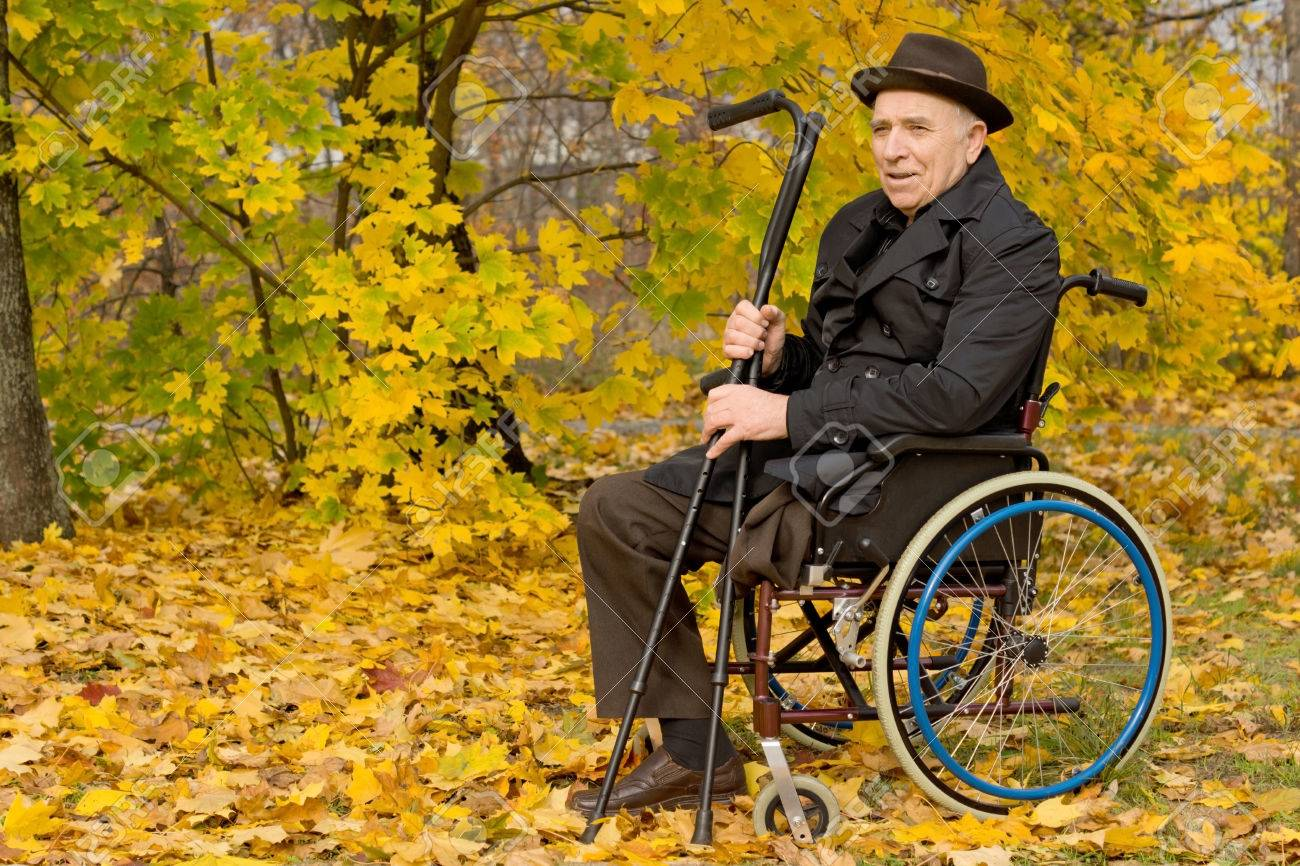wheelchair: (574, 33, 1174, 844)
